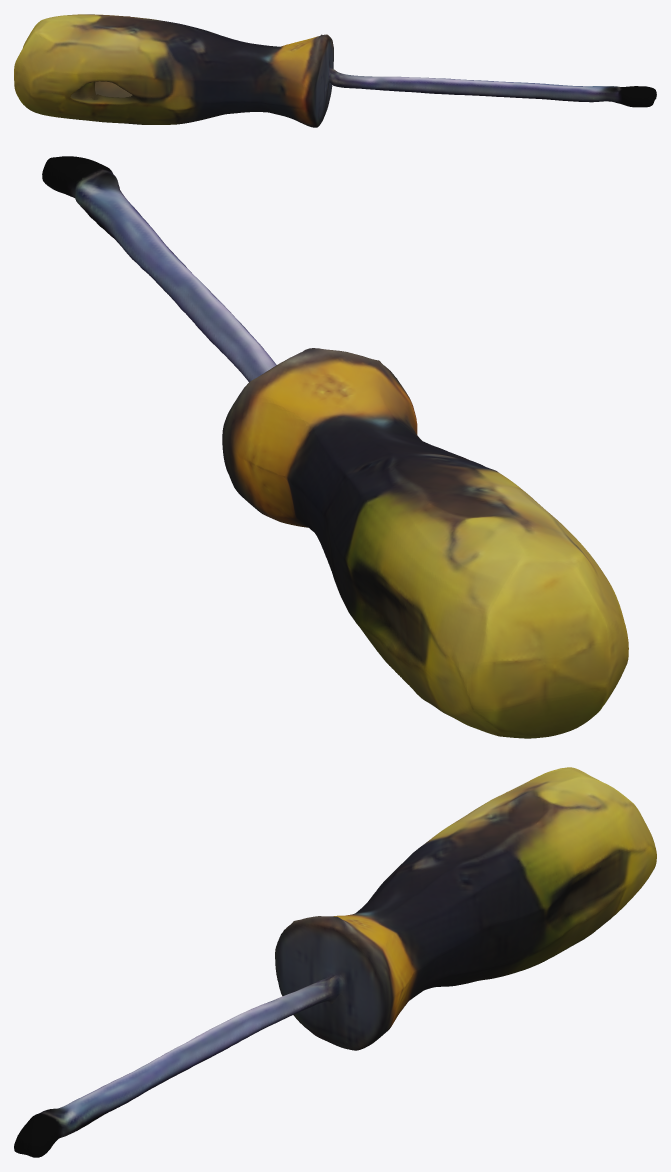
Rendered from obj08_ours.glb.
3 renders of one model, top to bottom at view 1: azimuth 30°, elevation 25°; view 2: azimuth 150°, elevation 25°; view 3: azimuth 270°, elevation 25°, orthographic. The views are drawn at different scales.
Visible parts, largest first — view 1: n1; view 2: n1; view 3: n1.
Boxes of the visible parts, box(x1,y1,x2,y2) form: n1: box(14, 14, 656, 127); n1: box(42, 156, 628, 738); n1: box(14, 767, 656, 1157).
Bounding box in the file's own units: 0.998 × 0.2026 × 0.7981.
